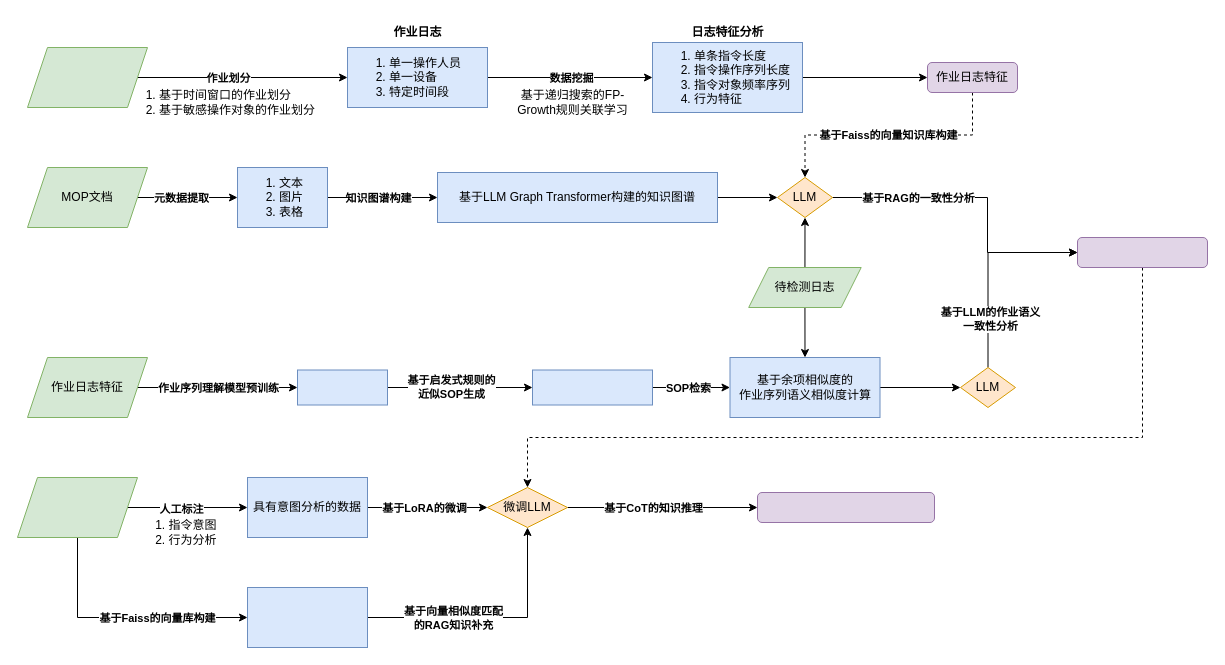
Some shapes in this 1225 by 665 pixel diagram are drawn without their labels. The centre of each missing label's shape, as x and y in pixels:
"SOP语义向量数据库" goes at (x=592, y=387).
"作业人员意图与行为一致性分析" goes at (x=845, y=507).
"作业聚类" goes at (x=342, y=387).
"全量作业日志" goes at (x=77, y=507).
"原始海量日志" goes at (x=87, y=77).
"向量数据库" goes at (x=307, y=617).
"异常作业识别结果" goes at (x=1142, y=252).
